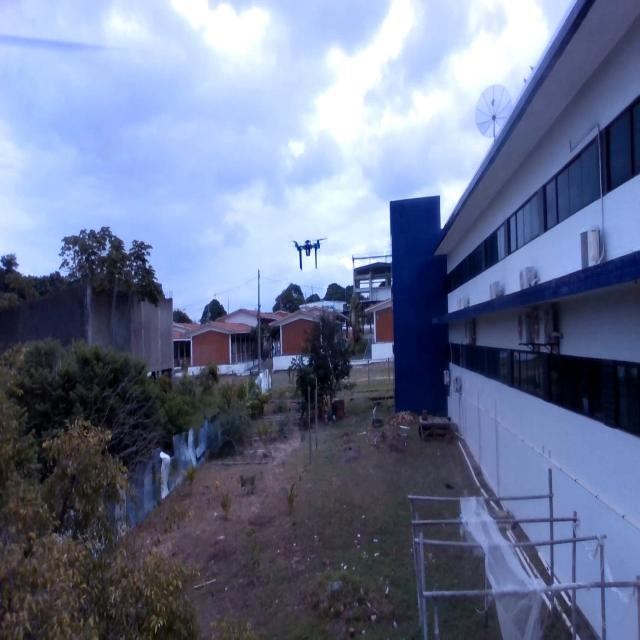-uav-: (281, 216, 333, 277)
